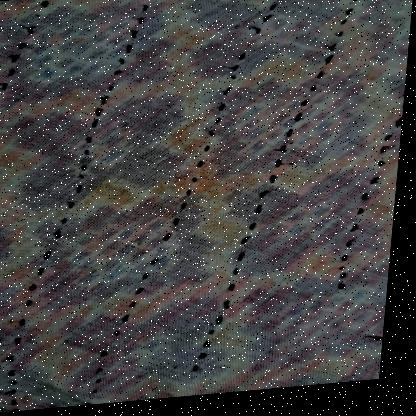spot: (160, 165, 234, 206), (78, 179, 150, 212)
